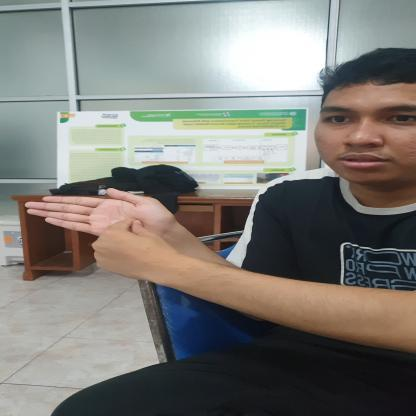Nama: (3, 182, 242, 296)
